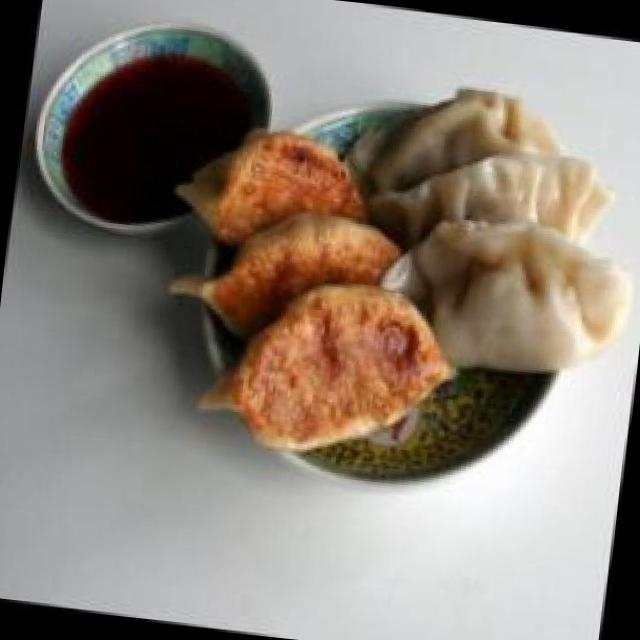fried_dumplings: (162, 46, 640, 501)
